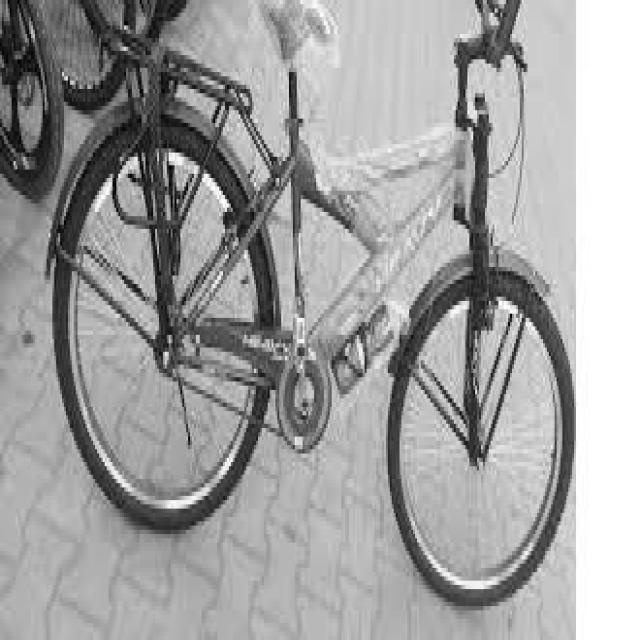bicycle: (29, 12, 566, 552)
